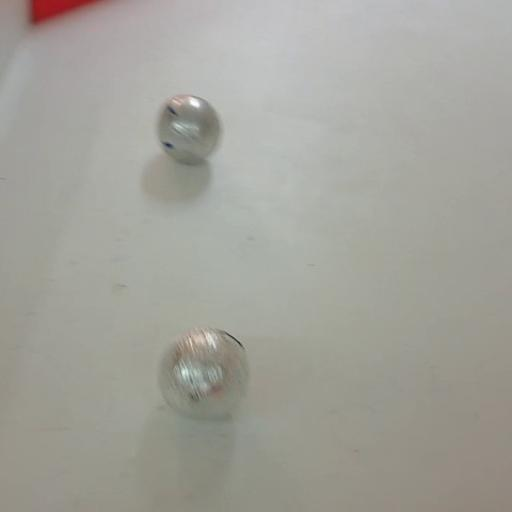alive: (156, 324, 255, 420), (155, 93, 223, 165)
